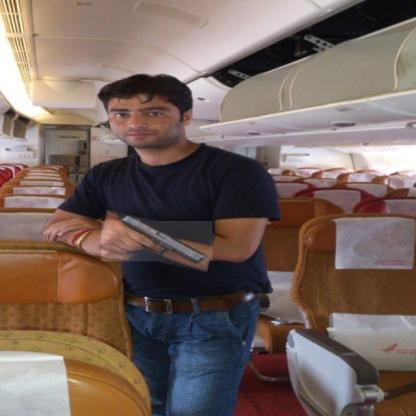handgun: (100, 215, 214, 267)
